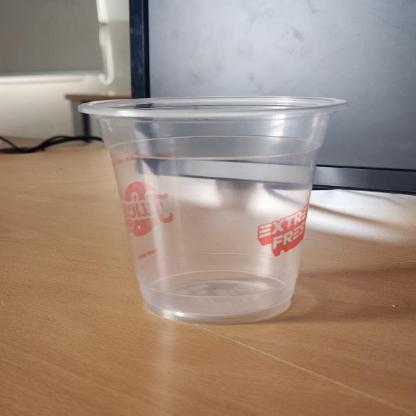Plastic Cup: (78, 96, 342, 322)
